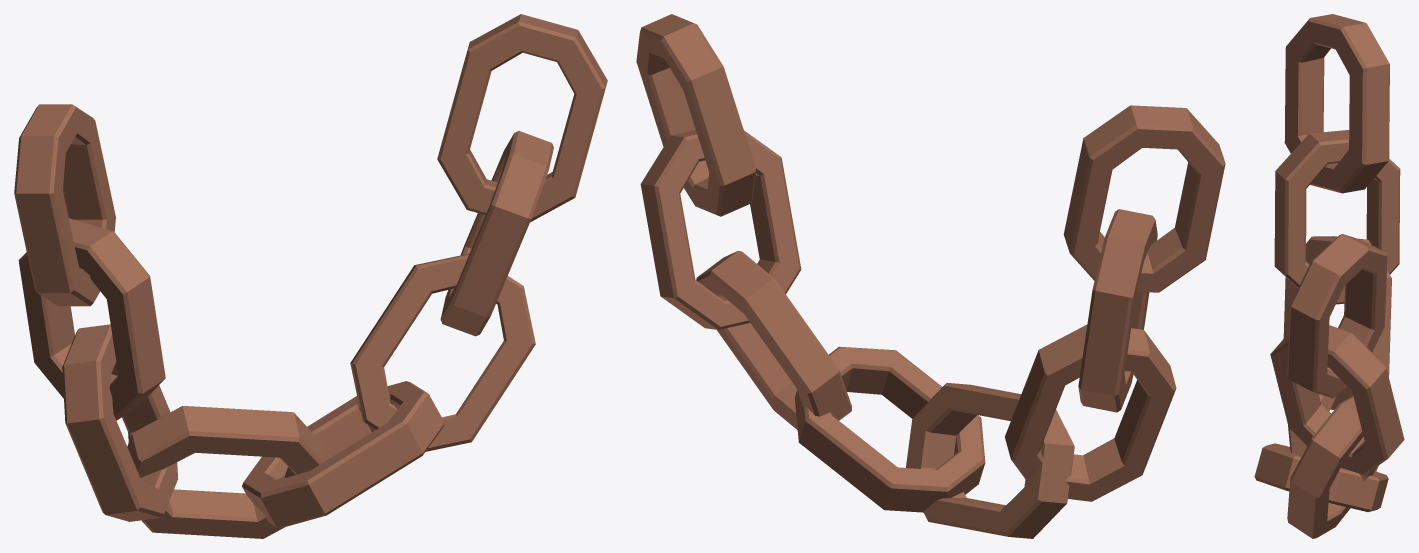
The model's file is genericChainRusty.fbx.
3 renders of one model, left to right at view 1: azimuth 30°, elevation 25°; view 2: azimuth 150°, elevation 25°; view 3: azimuth 270°, elevation 25°, orthographic. The views are drawn at different scales.
Visible parts, largest first — view 1: genericChainRusty; view 2: genericChainRusty; view 3: genericChainRusty.
Part boxes in pixels (left/top/right/bottom): genericChainRusty: left=14, top=14, right=607, bottom=538; genericChainRusty: left=636, top=14, right=1225, bottom=538; genericChainRusty: left=1254, top=14, right=1404, bottom=538.
Bounding box in the file's own units: 1.96 × 1.5 × 0.5035.
1 material, 1 textured.
